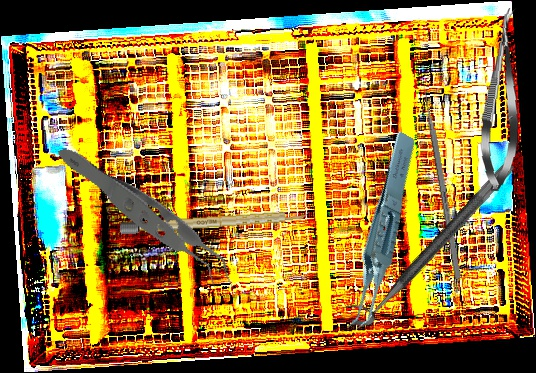Fixation Ring: (339, 147, 516, 335)
Micro Scissor: (477, 6, 527, 193)
Pusher: (419, 75, 462, 280)
Scalpel Handle: (119, 209, 310, 235)
Tissue Forceps: (54, 108, 238, 333), (303, 129, 455, 336)
